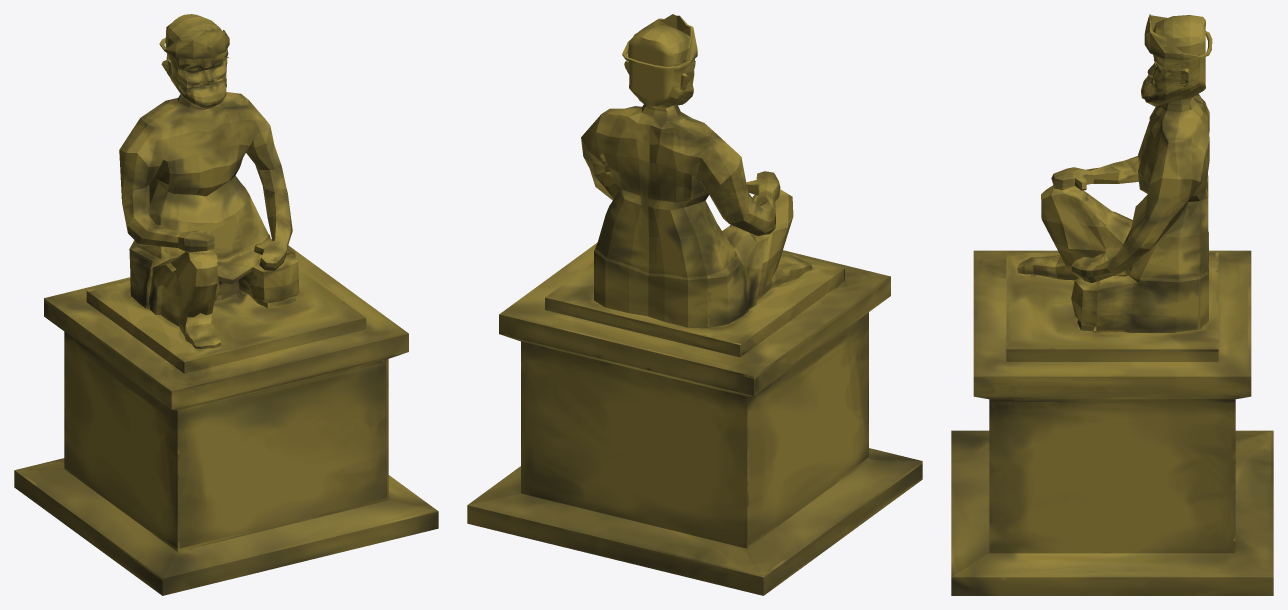
The model's file is f_sHanuman.fbx.
3 views of the same model, side by side, from view 1: azimuth 30°, elevation 25°; view 2: azimuth 150°, elevation 25°; view 3: azimuth 270°, elevation 25° (orthographic). The views are drawn at different scales.
Parts seen in each view (by area): view 1: f_statue_1.001; view 2: f_statue_1.001; view 3: f_statue_1.001.
Boxes of the visible parts, x1,y1,x2,y2 form: f_statue_1.001: (14, 14, 438, 595); f_statue_1.001: (467, 14, 922, 595); f_statue_1.001: (951, 14, 1273, 595).
Bounding box in the file's own units: 517 × 834 × 481.
